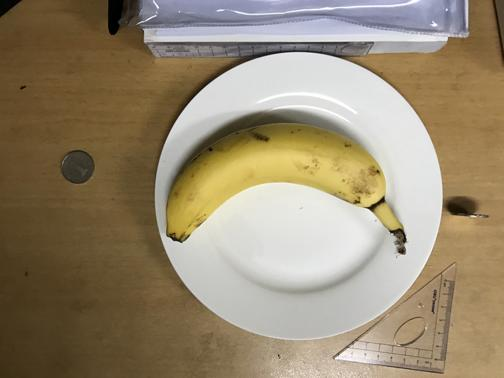banana: (159, 123, 395, 243)
coin: (59, 149, 96, 184)
